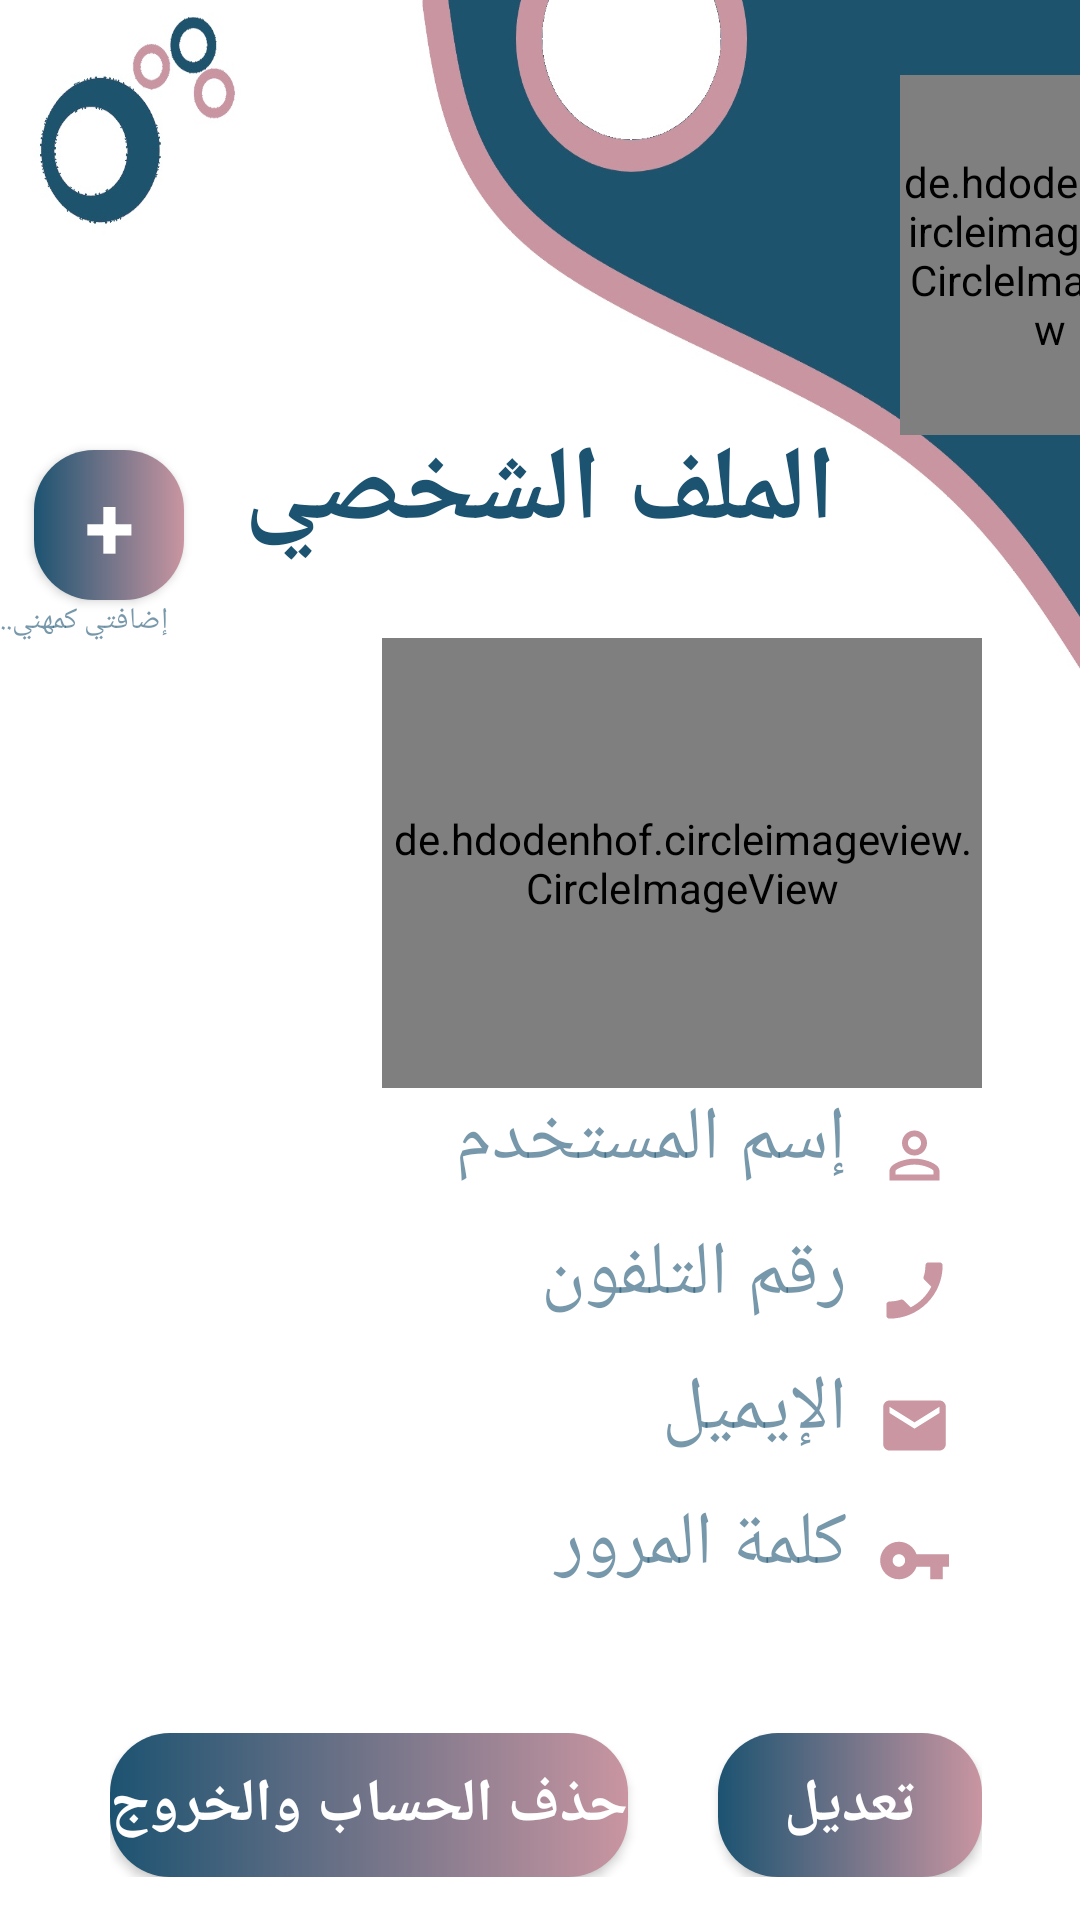

Named icons in this screenshot (1080w x 1920h) and their centers, (x,y):
email: (914,1425)
pass: (914,1560)
person: (914,1155)
phone: (914,1290)
